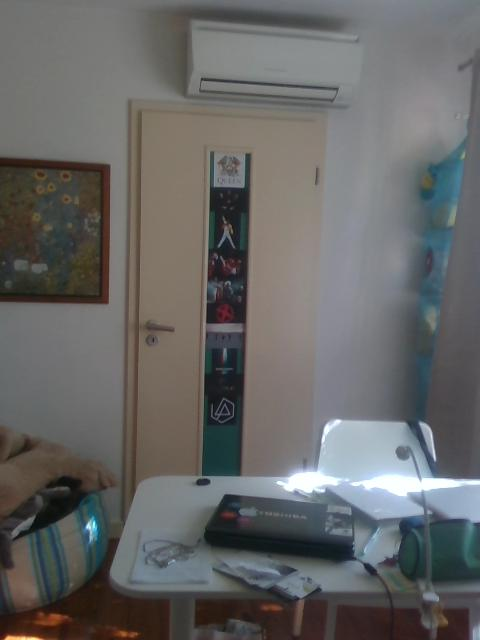door: (136, 111, 315, 477)
